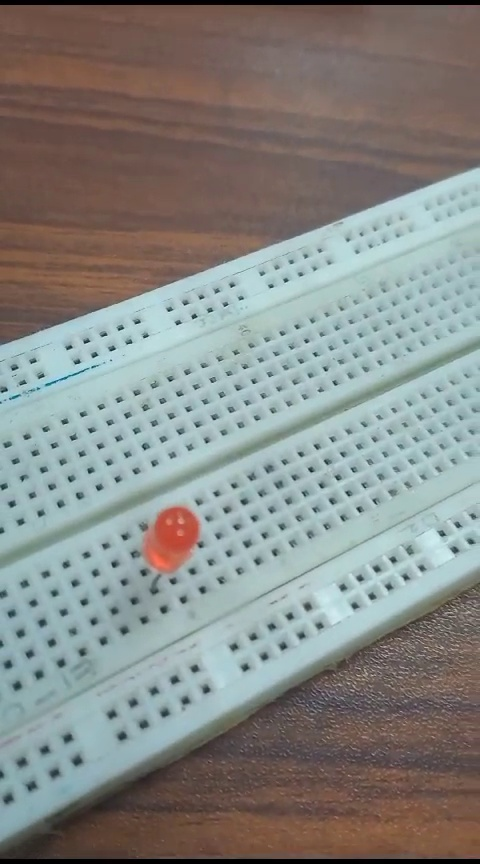LED: (139, 507, 210, 589)
